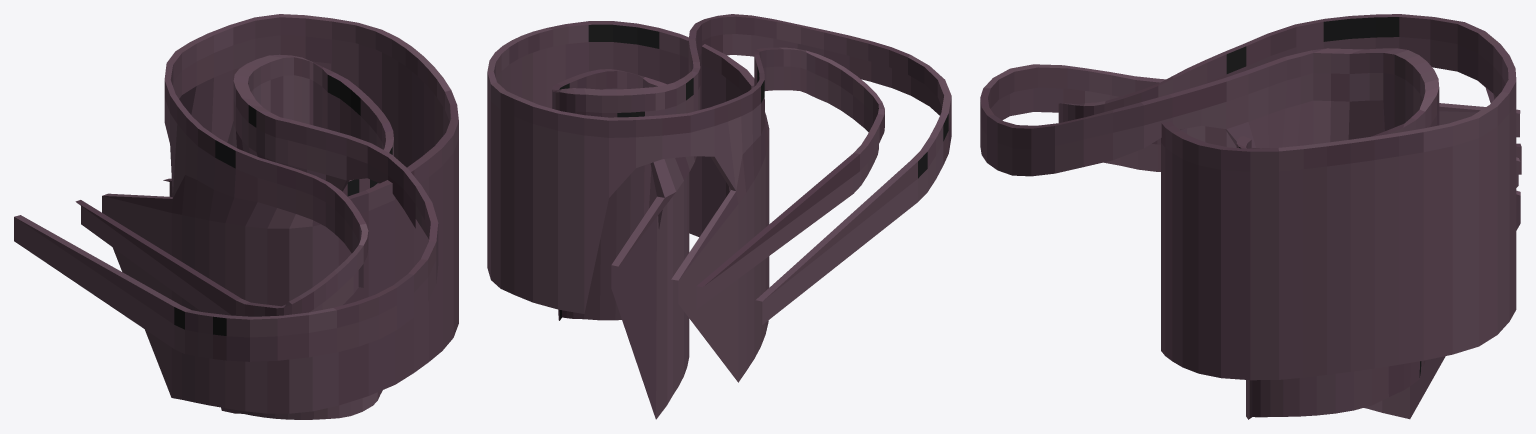
Rendered from parede.gltf.
The picture shows the model from 3 angles, left to right: view 1: azimuth 30°, elevation 25°; view 2: azimuth 150°, elevation 25°; view 3: azimuth 270°, elevation 25°; orthographic projection. The views are drawn at different scales.
Parts seen in each view (by area): view 1: regular_3; view 2: regular_3; view 3: regular_3.
Boxes of the visible parts, bbox=[...] form: regular_3: bbox=[14, 14, 458, 419]; regular_3: bbox=[487, 14, 951, 419]; regular_3: bbox=[980, 14, 1521, 419].
Bounding box in the file's own units: 245 × 238 × 305.
Materials: 1 (1 with a texture image).
